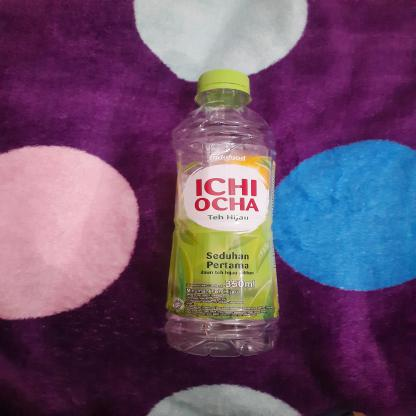bottle: (164, 63, 282, 359)
